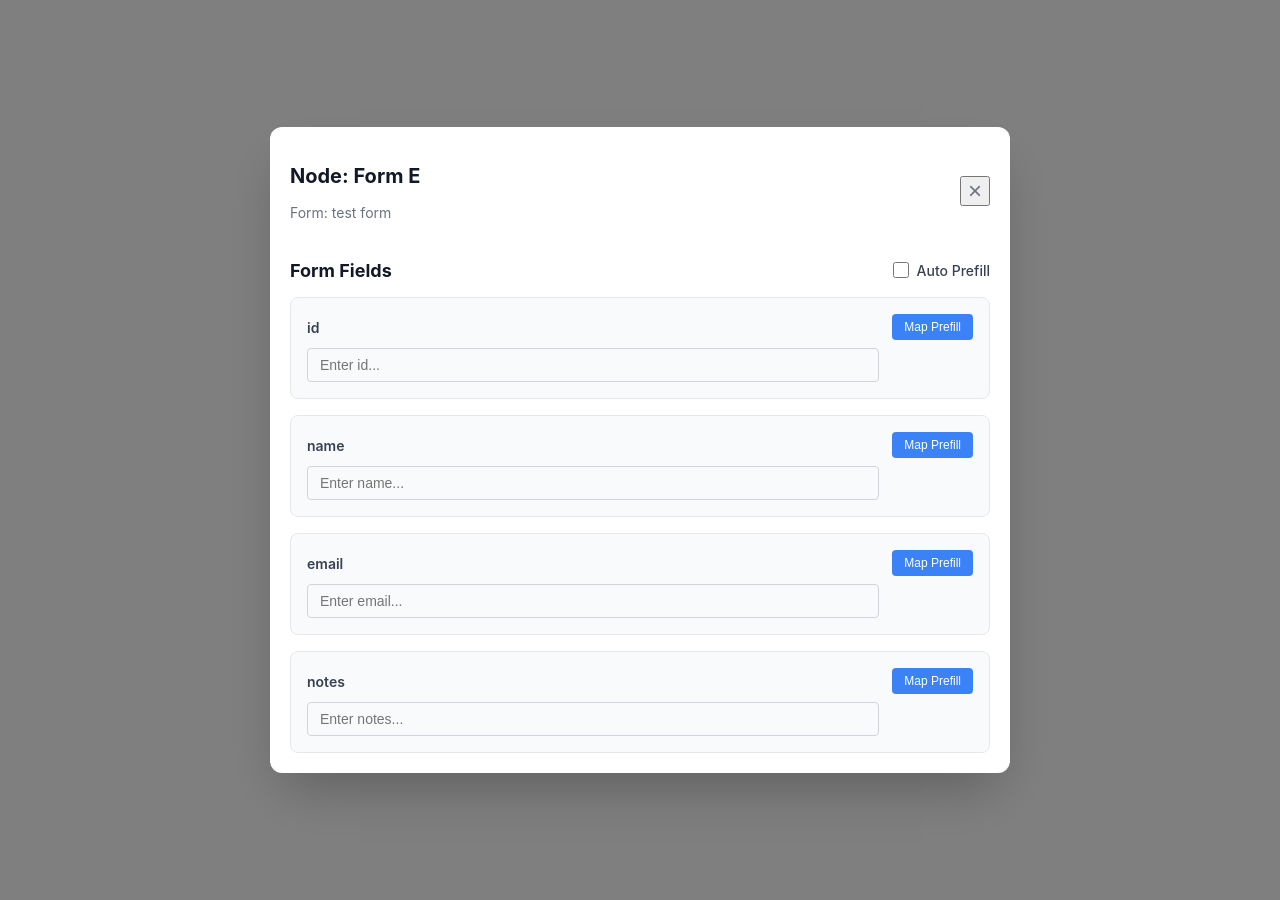
Test: PrefillUI Component › Source Selection and Mapping › shows correct source information after mapping
Click the button "Map Prefill" in the row of "id": (933, 327) [892, 314, 973, 340]
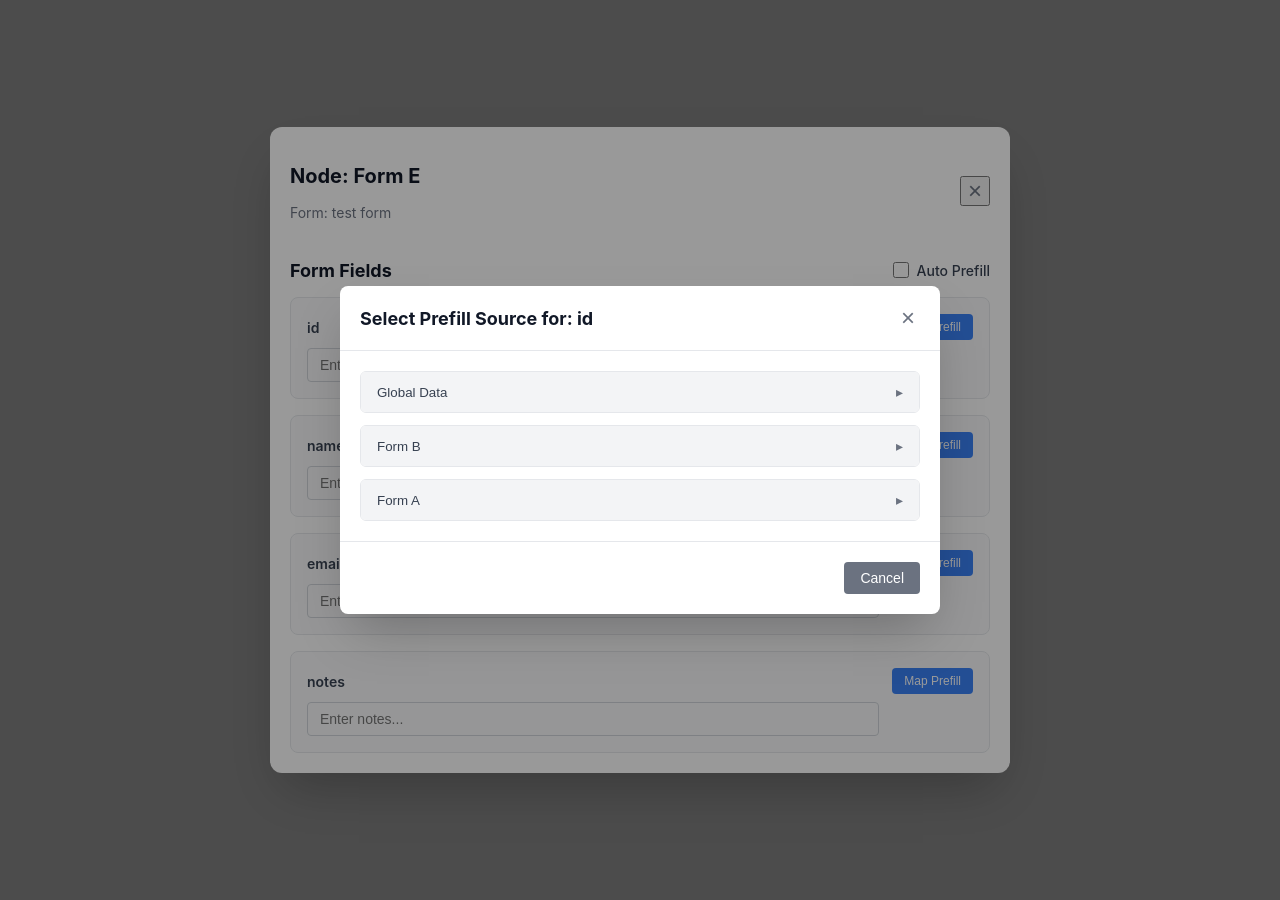
// Expand Form A group and select id
Click the text "Form A": (398, 500) [377, 492, 420, 508]
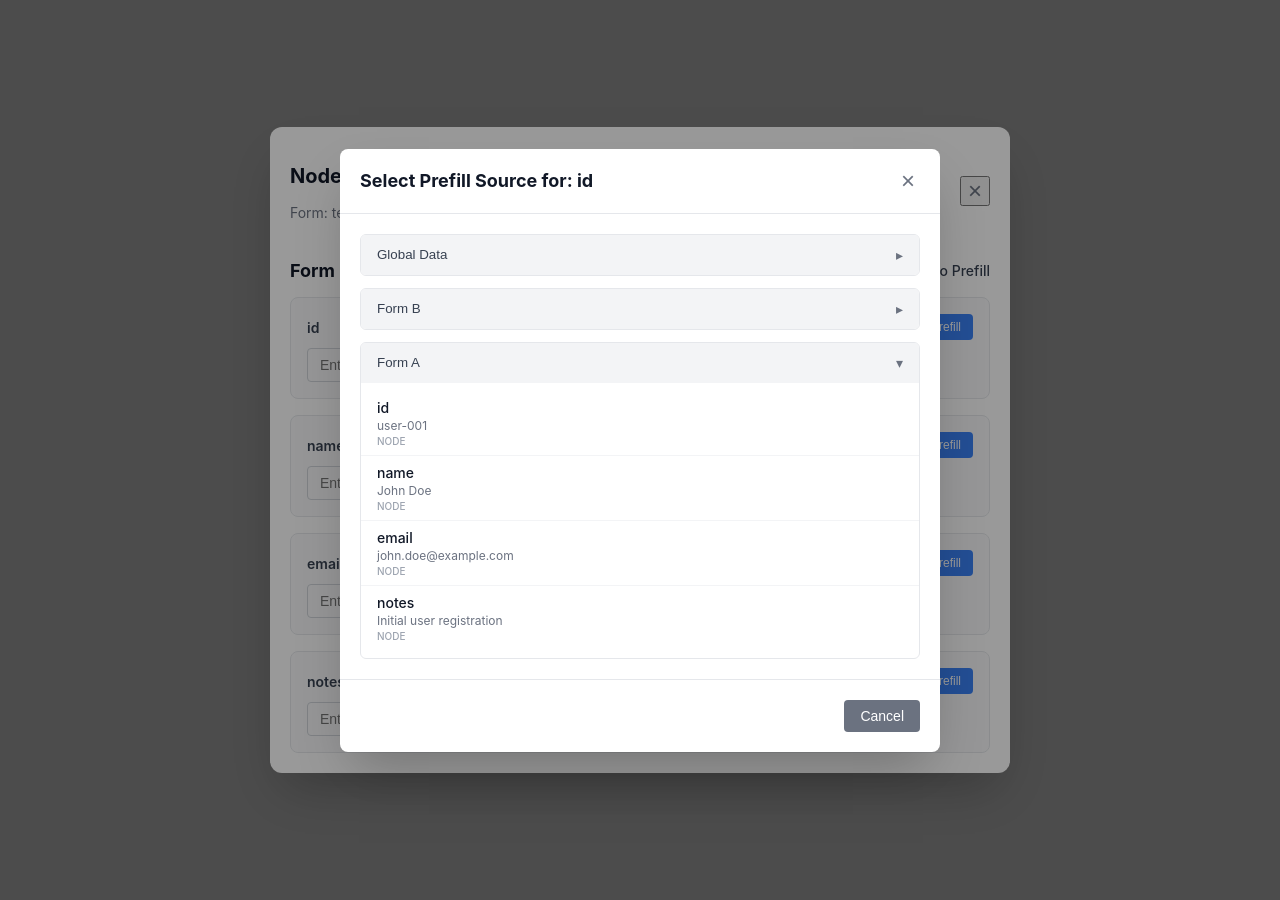
Click the text "user-001": (402, 425) [377, 418, 427, 432]
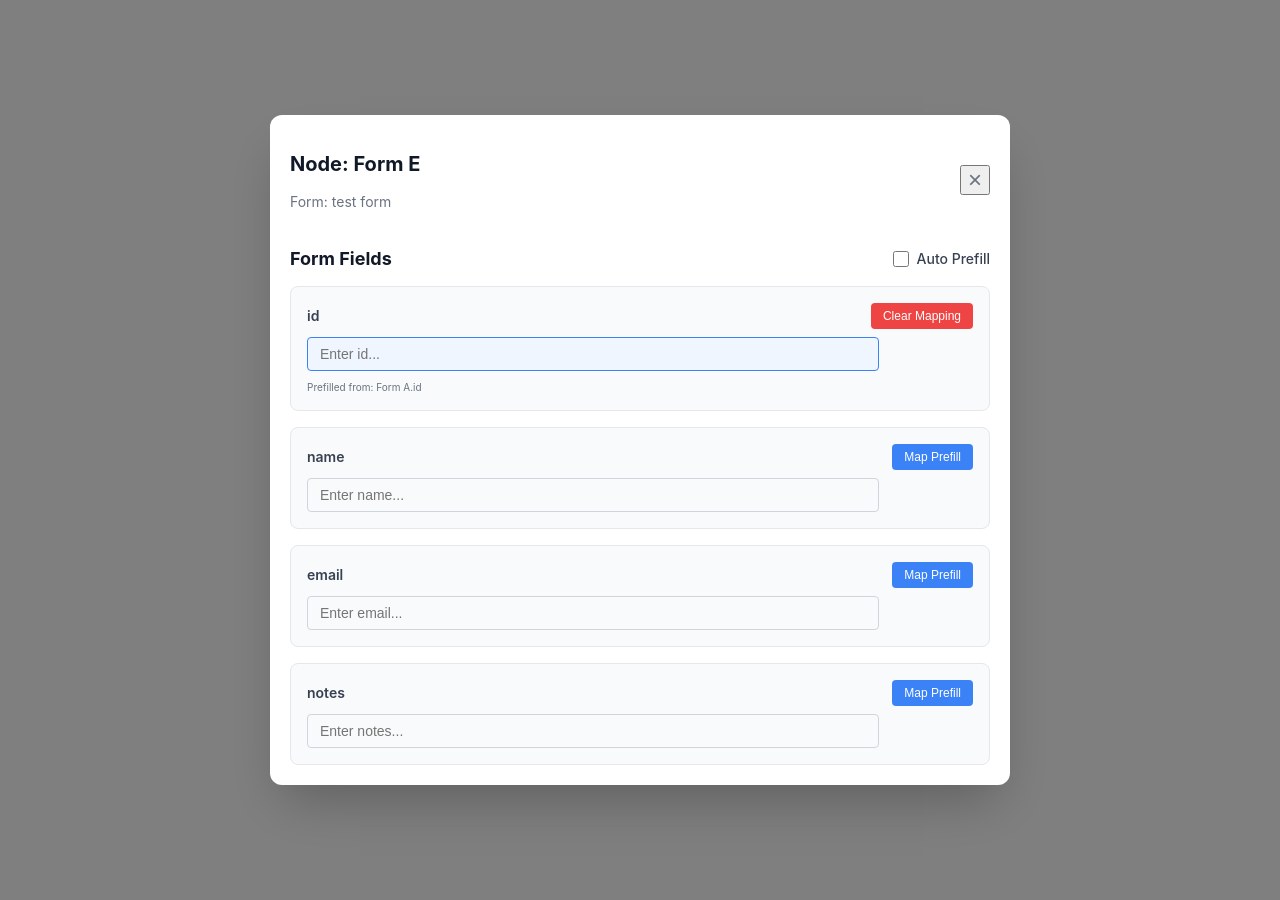
Expected: the text "Prefilled from: Form A.id" is shown, [307, 381, 422, 393]
